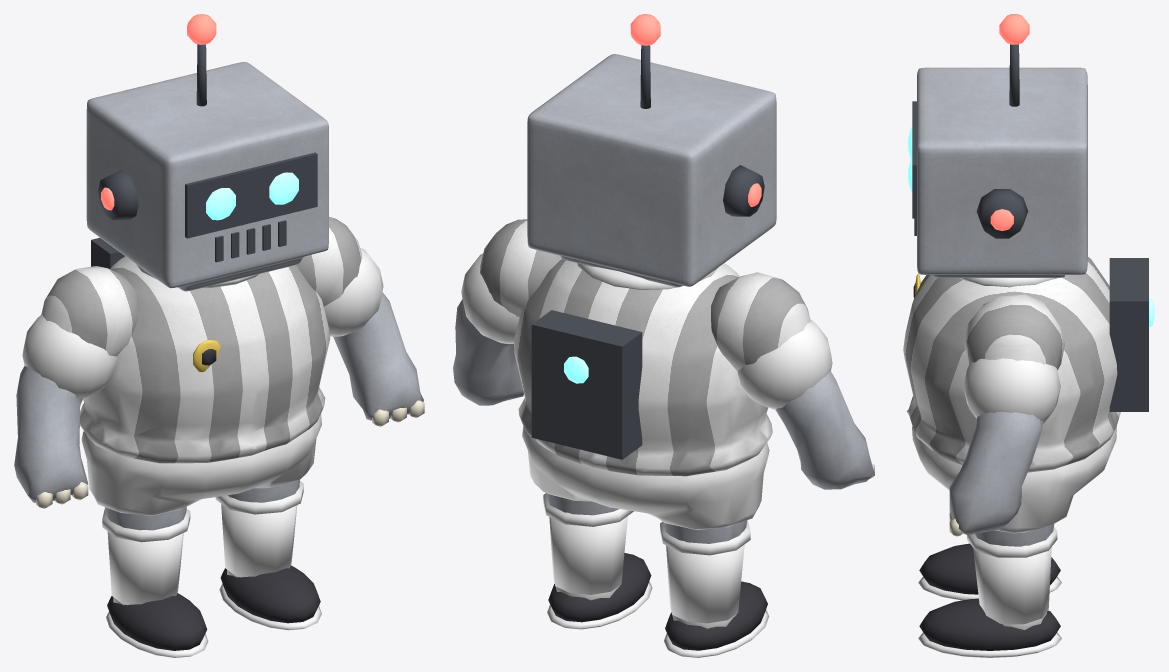
Rendered from char_robot_lite.glb.
3 renders of one model, left to right at view 1: azimuth 30°, elevation 25°; view 2: azimuth 150°, elevation 25°; view 3: azimuth 270°, elevation 25°, orthographic. The views are drawn at different scales.
Visible parts, largest first — view 1: Body.006, Head.006, ArmR.006, ArmL.006, LegR.006, LegL.006; view 2: Body.006, Head.006, ArmR.006, ArmL.006, LegR.006, LegL.006; view 3: Head.006, Body.006, ArmL.006, LegL.006, LegR.006.
Part boxes in pixels (x1,y1,x2,y2): Body.006: (80,237,330,515); Head.006: (86,14,328,291); ArmR.006: (14,266,137,508); ArmL.006: (296,217,424,426); LegR.006: (102,507,208,657); LegL.006: (215,479,321,630); Body.006: (514,259,772,529); Head.006: (527,14,776,287); ArmR.006: (711,272,874,489); ArmL.006: (453,219,561,405); LegR.006: (660,520,769,657); LegL.006: (543,493,652,629); Head.006: (908,14,1087,277); Body.006: (903,257,1154,533); ArmL.006: (949,294,1064,536); LegL.006: (918,523,1061,657); LegR.006: (918,543,1061,600).
Bounding box in the file's own units: 1.88 × 2.74 × 1.03.
Materials: 13 (2 with a texture image).
